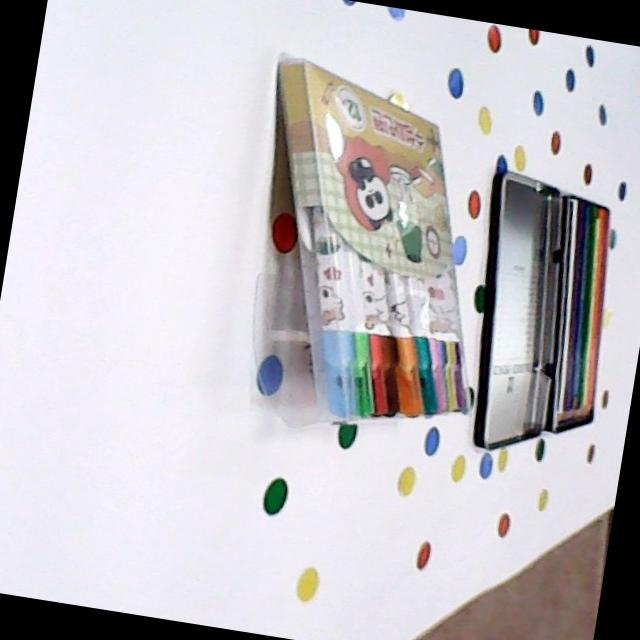color: (542, 187, 615, 436)
signpen: (244, 47, 470, 435)
